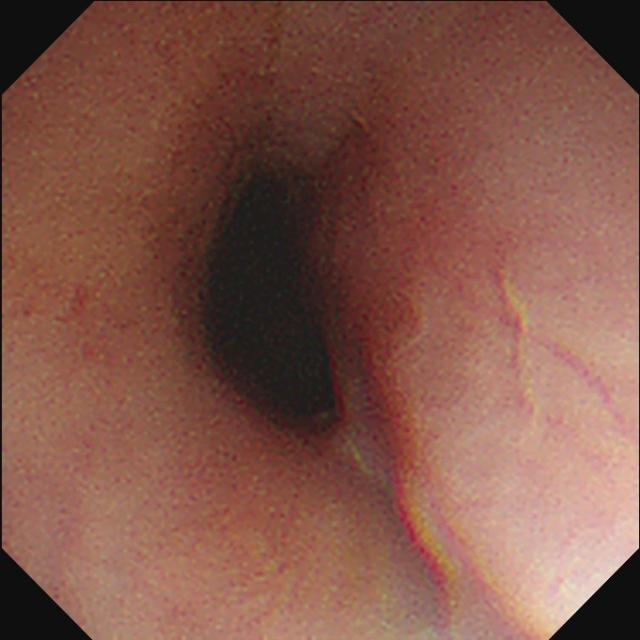D: (357, 293, 450, 587)
E: (207, 173, 338, 417)
